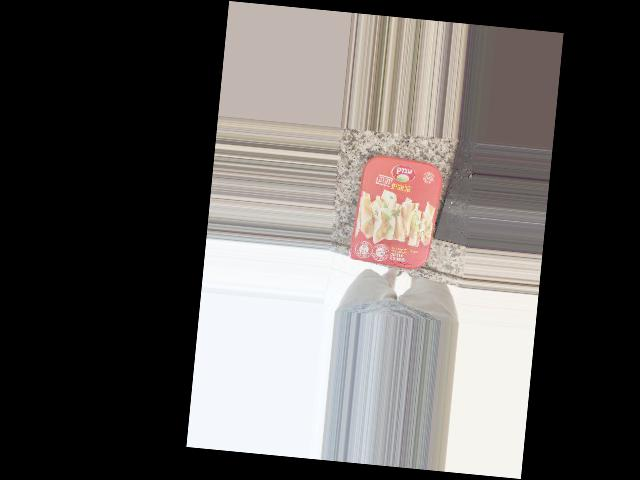cheese: (356, 177, 454, 294)
